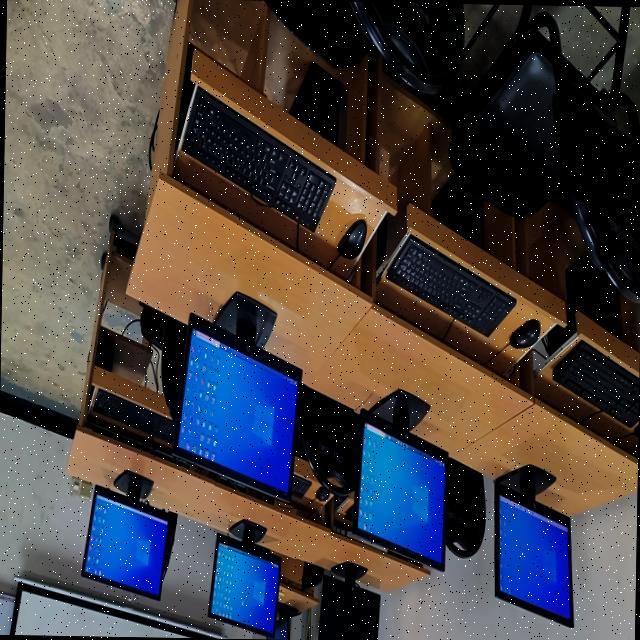Chair: (448, 3, 640, 300), (263, 0, 462, 93), (297, 384, 358, 494), (139, 302, 186, 418), (444, 457, 484, 556)
Cpu: (545, 254, 615, 351), (288, 62, 341, 146), (430, 175, 475, 242)
Keyboard: (177, 86, 334, 230), (385, 234, 514, 335), (552, 340, 639, 424), (93, 388, 172, 441), (290, 473, 310, 497)
Monitor: (172, 290, 300, 500), (351, 389, 446, 569), (493, 464, 571, 626), (80, 470, 175, 598), (208, 519, 280, 636), (317, 561, 379, 640)
Mouse: (336, 218, 365, 258), (509, 319, 538, 347), (314, 485, 331, 501)
